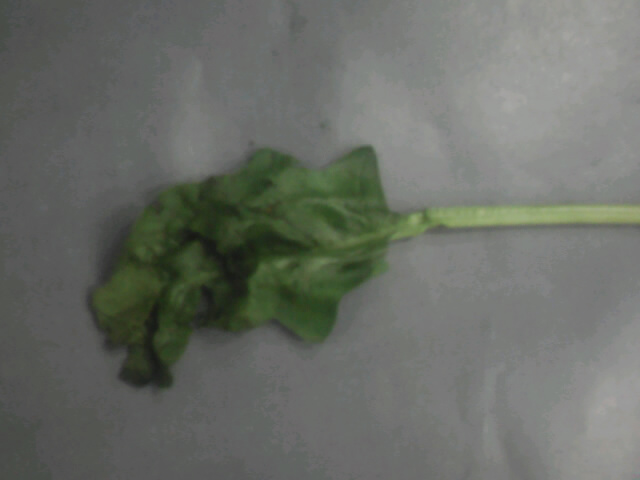yellow: (71, 133, 547, 387)
